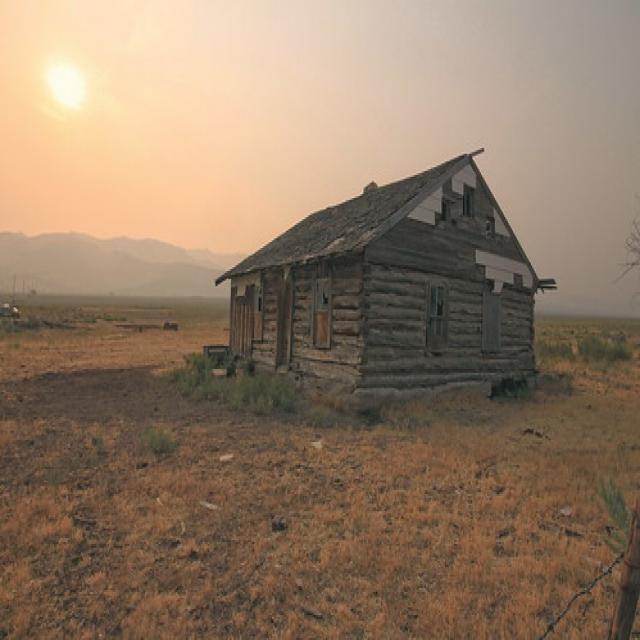Normal_building: (217, 144, 540, 410)
